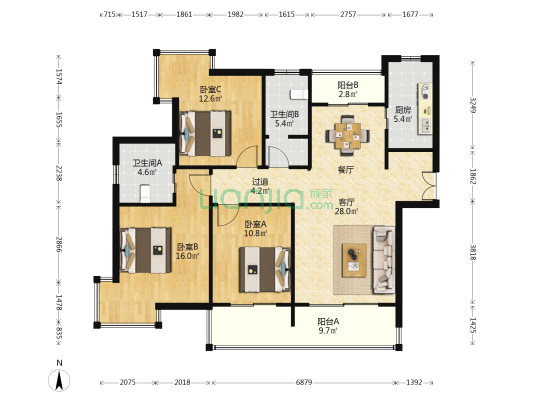DOOR(单开门): (234, 141, 259, 171), (187, 172, 215, 197), (216, 202, 242, 228), (267, 144, 292, 169)
DOOR(双开门): (418, 167, 441, 202)
DOOR（移门）: (305, 301, 380, 308), (325, 99, 371, 109), (228, 301, 279, 309)
